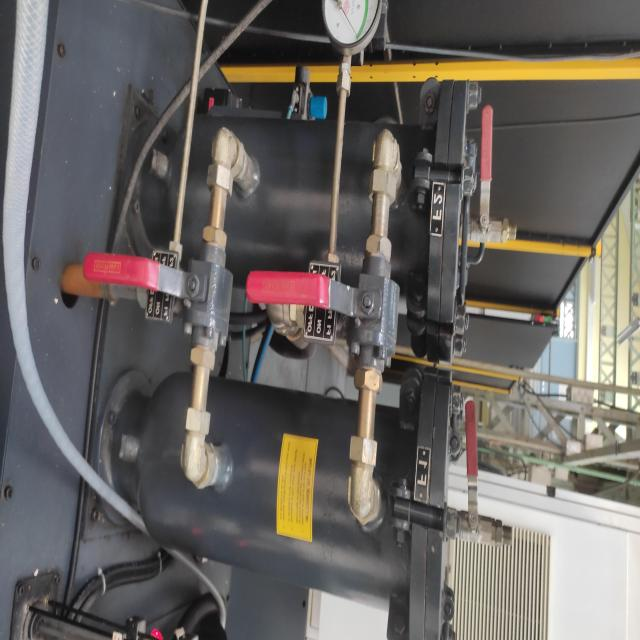closed_valve: (244, 233, 404, 405), (84, 218, 238, 373), (452, 395, 494, 555), (468, 99, 501, 257)
